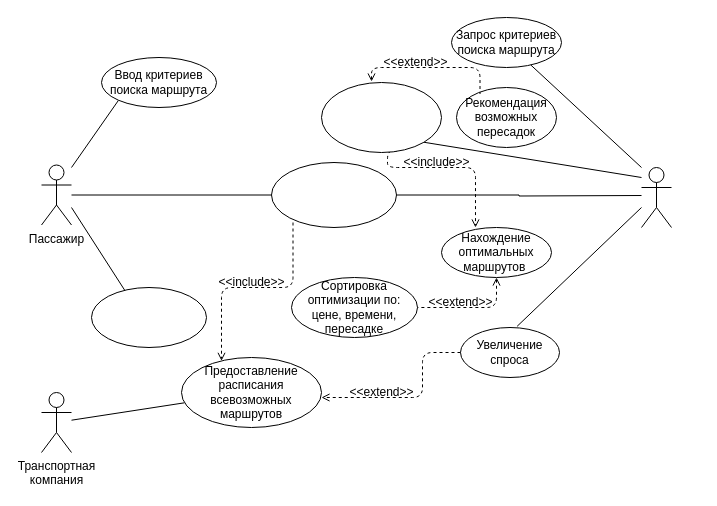
Image size: 717x506. Some labels were removed from this diagram. Here are the shapes that lost their labels. From the top down, the centre of each, then its label:
(381,117): Вывод маршрутов по критериям Пассажира
(333,195): Поиск подходящего транспорта и маршрута
(656,197): Администратор
(148,317): Выбор понравившегося маршрута
